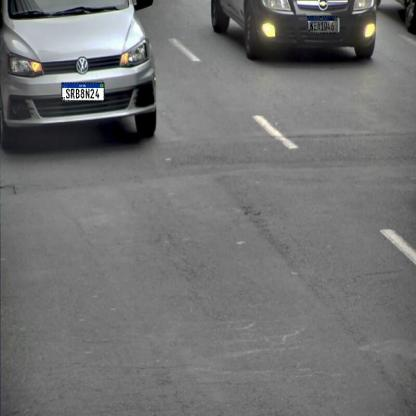PlacaM: (62, 83, 104, 101), (308, 16, 338, 33)
